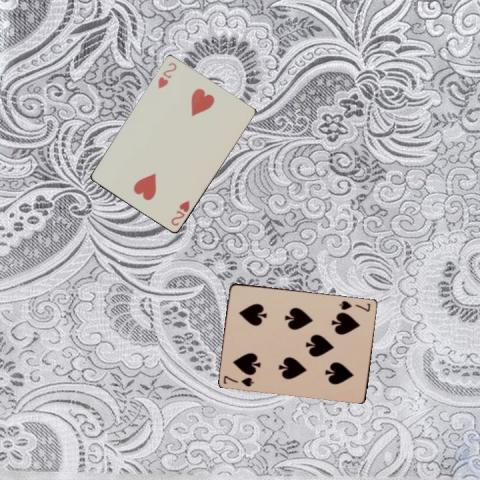2h: (155, 60, 178, 91), (168, 198, 191, 227)
7s: (336, 297, 372, 313), (221, 372, 255, 388)
